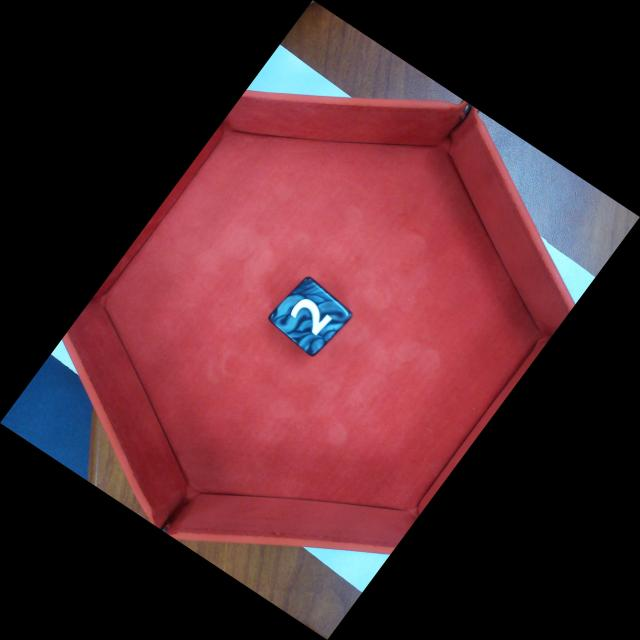dice: (269, 277, 352, 357)
